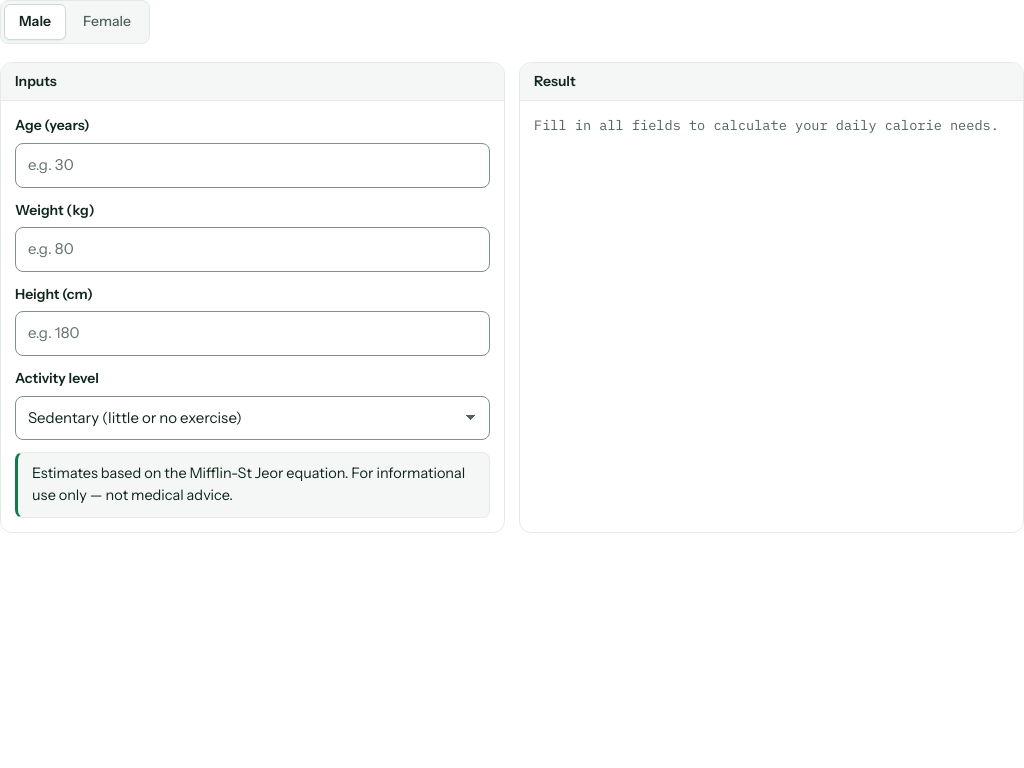
Test: CalorieCalculator › male 30y 80kg 180cm sedentary → BMR 1780, TDEE 2136
This screenshot has width=1024, height=768.
Type "30" into the number field with placeholder "e.g. 30" at [252, 165], box x1=15 y1=143 x2=490 y2=188
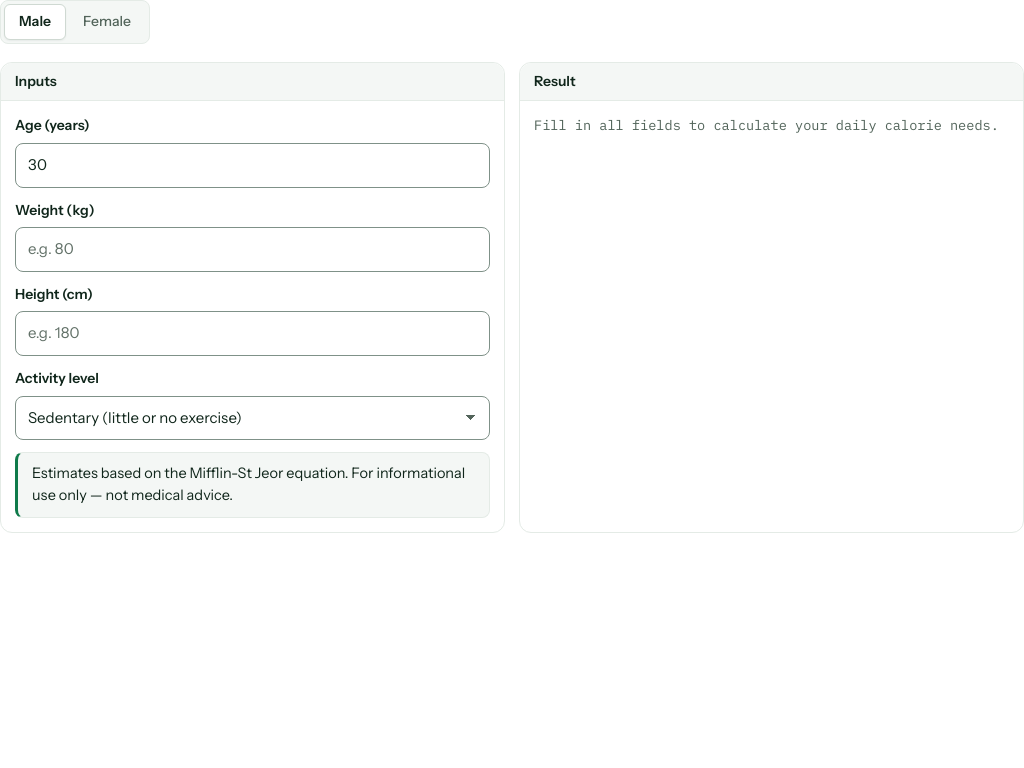
Type "80" into the number field with placeholder "e.g. 80" at [252, 250], box x1=15 y1=227 x2=490 y2=272
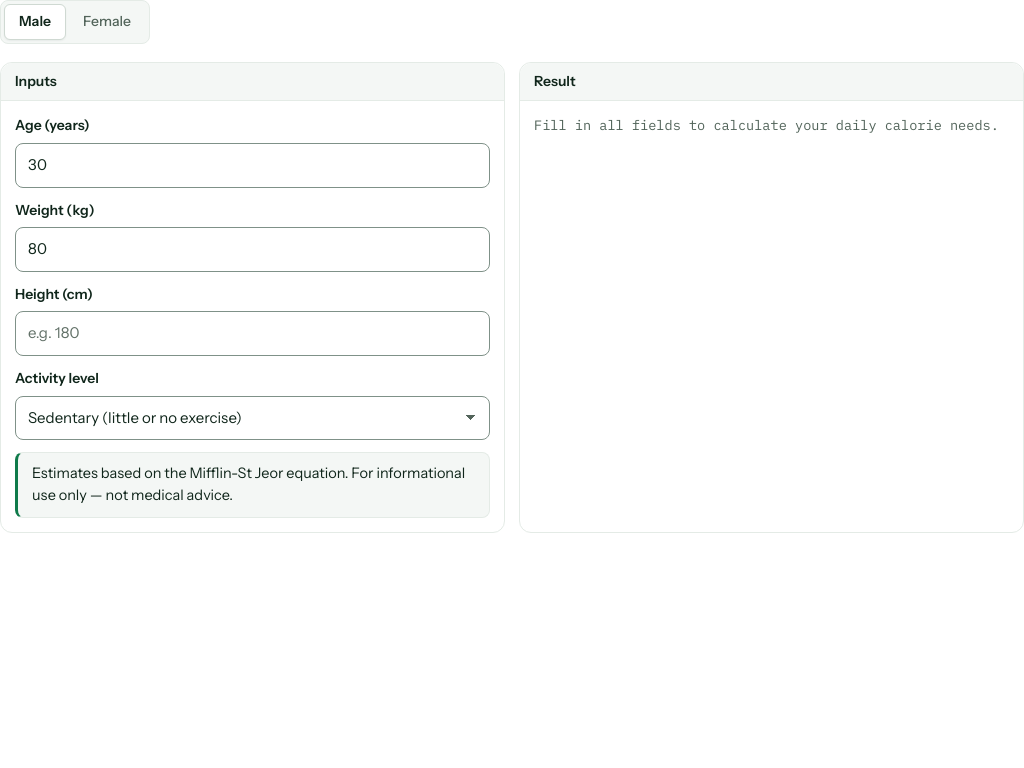
Type "180" into the number field with placeholder "e.g. 180" at [252, 334], box x1=15 y1=311 x2=490 y2=356
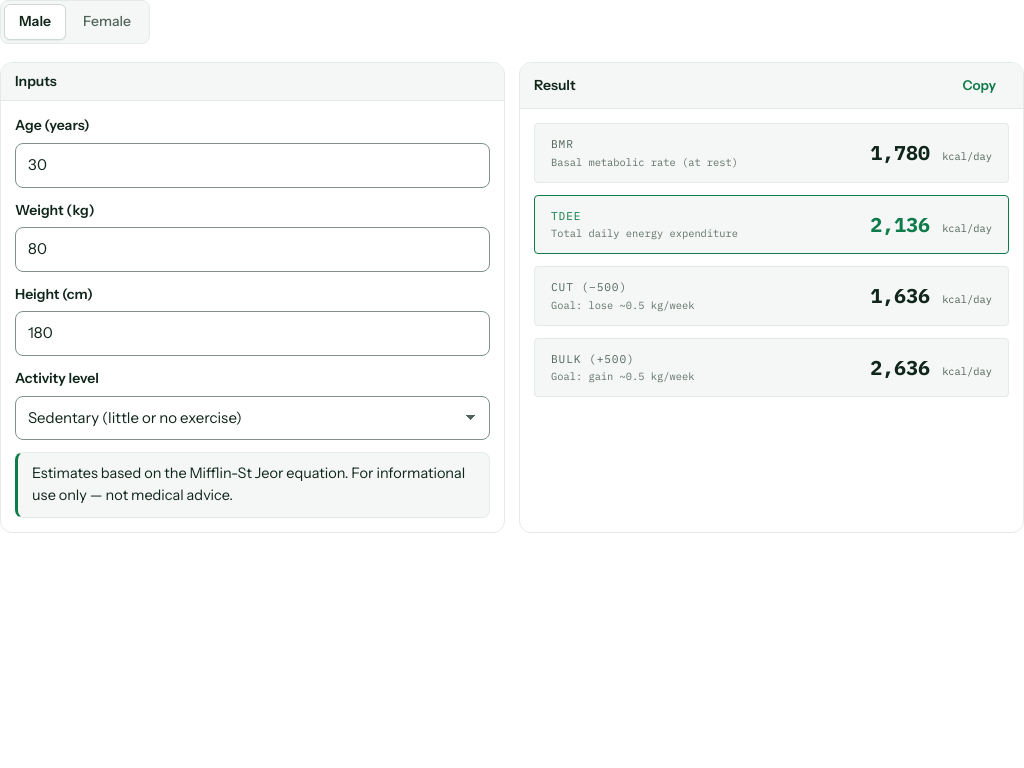
Check: the text "1,780 kcal/day" is shown, box x1=870 y1=138 x2=992 y2=168
Check: the text "2,136 kcal/day" is shown, box x1=870 y1=209 x2=992 y2=240
